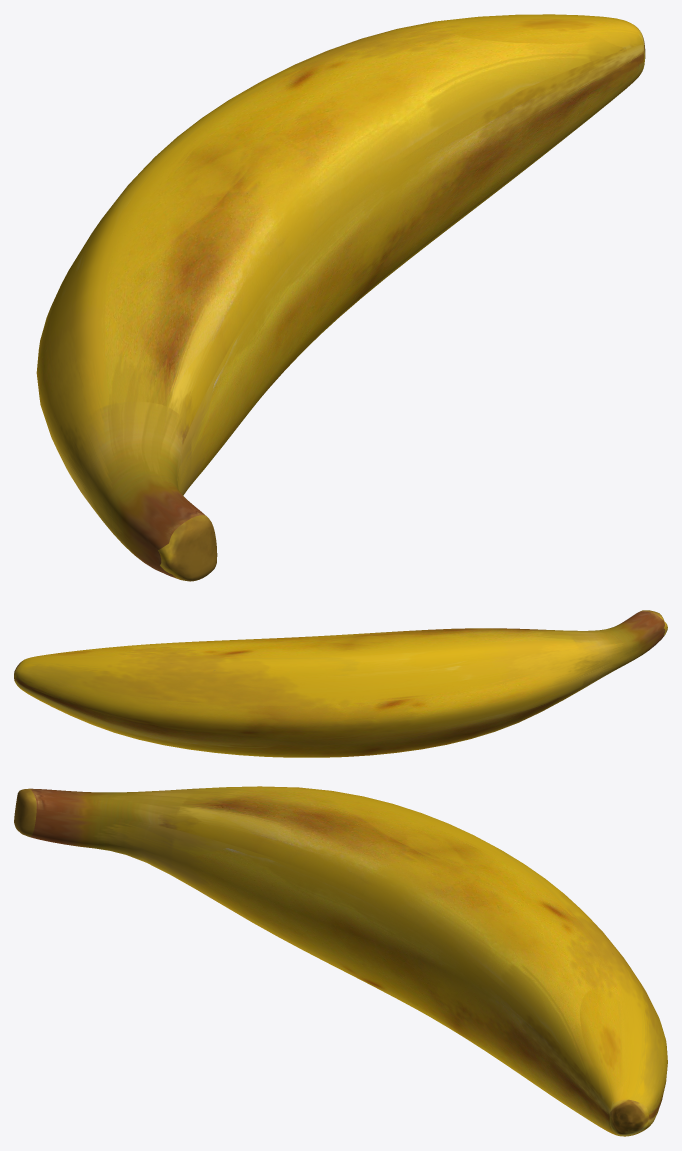
File: banana.obj
3 renders of one model, top to bottom at view 1: azimuth 30°, elevation 25°; view 2: azimuth 150°, elevation 25°; view 3: azimuth 270°, elevation 25°, orthographic. The views are drawn at different scales.
Visible parts, largest first — view 1: banana; view 2: banana; view 3: banana.
Part boxes in pixels (x1,y1,x2,y2): banana: (36, 14, 645, 581); banana: (14, 610, 667, 757); banana: (14, 786, 667, 1136).
Size of the model in its own units: 5.28 by 1.18 by 4.59.
Materials: 1 (1 with a texture image).
